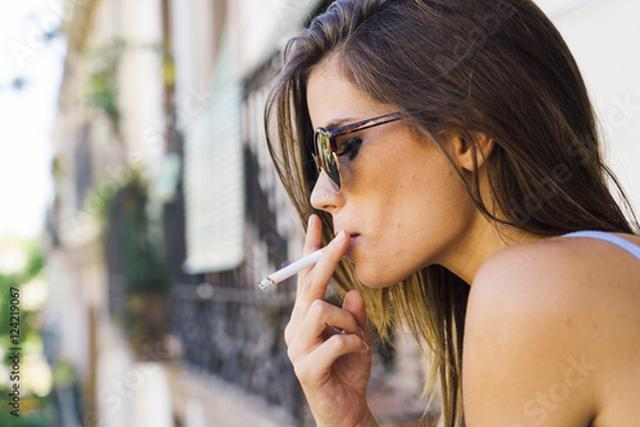Cigarette: (256, 229, 350, 292)
